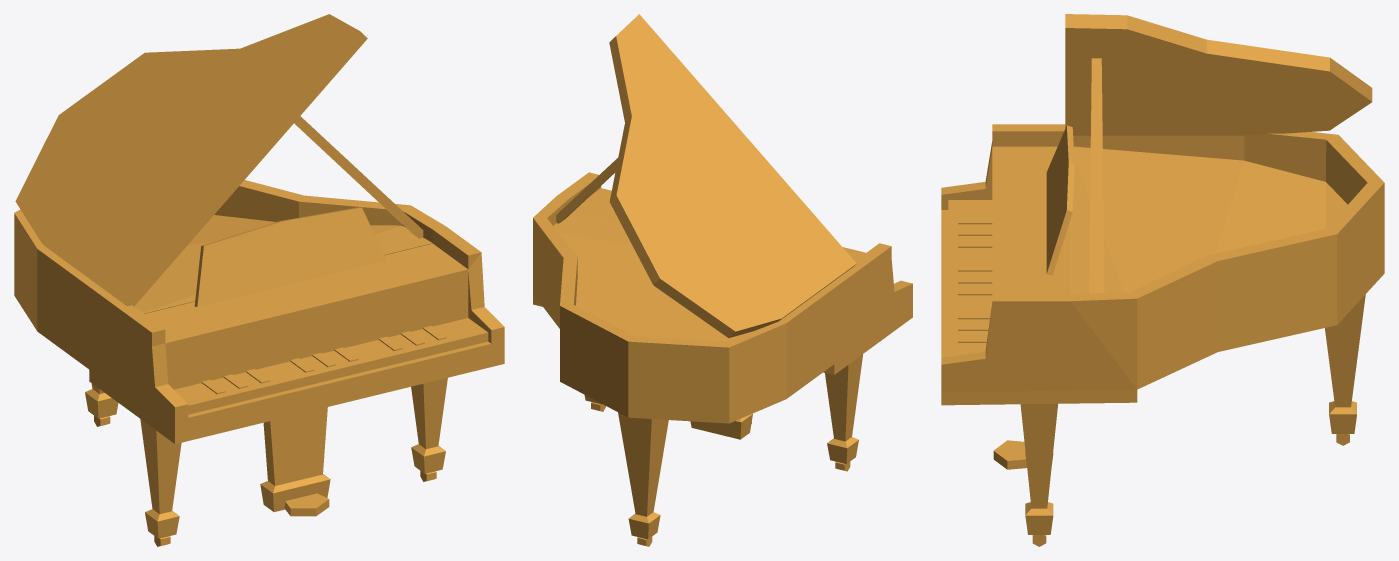
The model's file is piano.fbx.
3 renders of one model, left to right at view 1: azimuth 30°, elevation 25°; view 2: azimuth 150°, elevation 25°; view 3: azimuth 270°, elevation 25°, orthographic. The views are drawn at different scales.
Visible parts, largest first — view 1: piano; view 2: piano; view 3: piano.
Part boxes in pixels (bbox=[...]): piano: bbox=[14, 14, 504, 546]; piano: bbox=[533, 14, 912, 546]; piano: bbox=[941, 14, 1384, 546].
Bounding box in the file's own units: 1.49 × 1.96 × 1.58.
